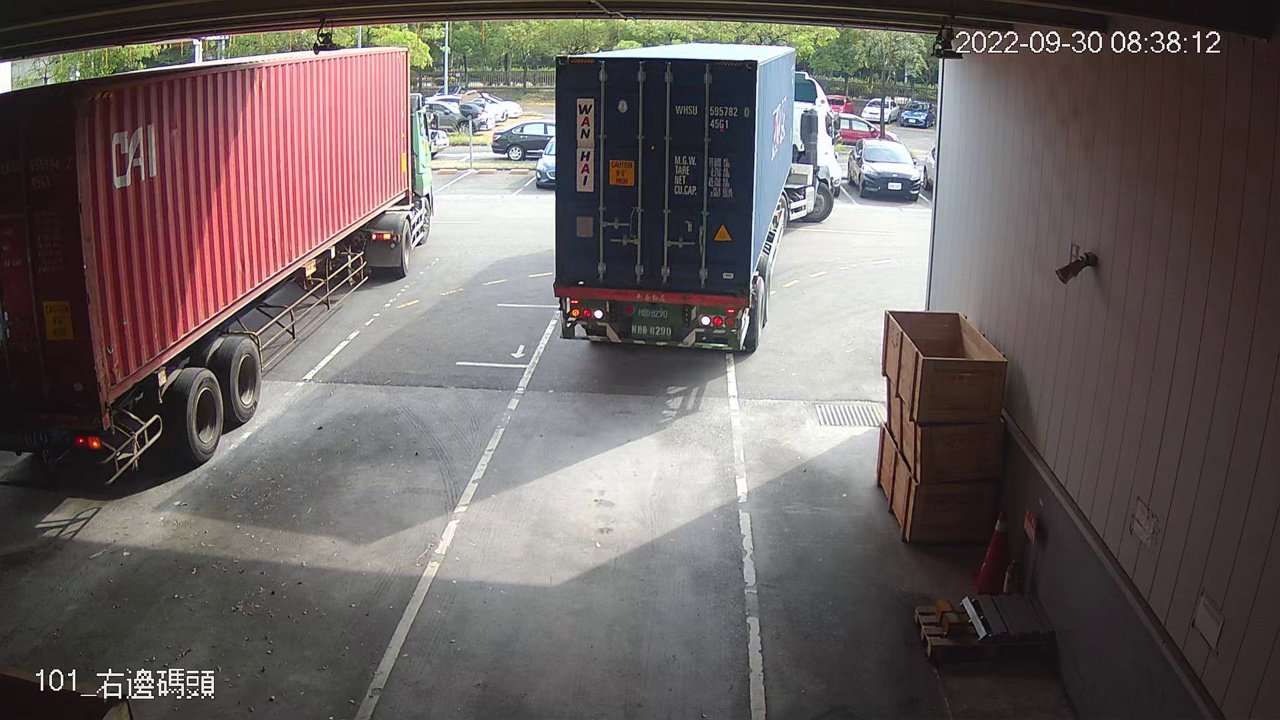container: (670, 100, 752, 134)
